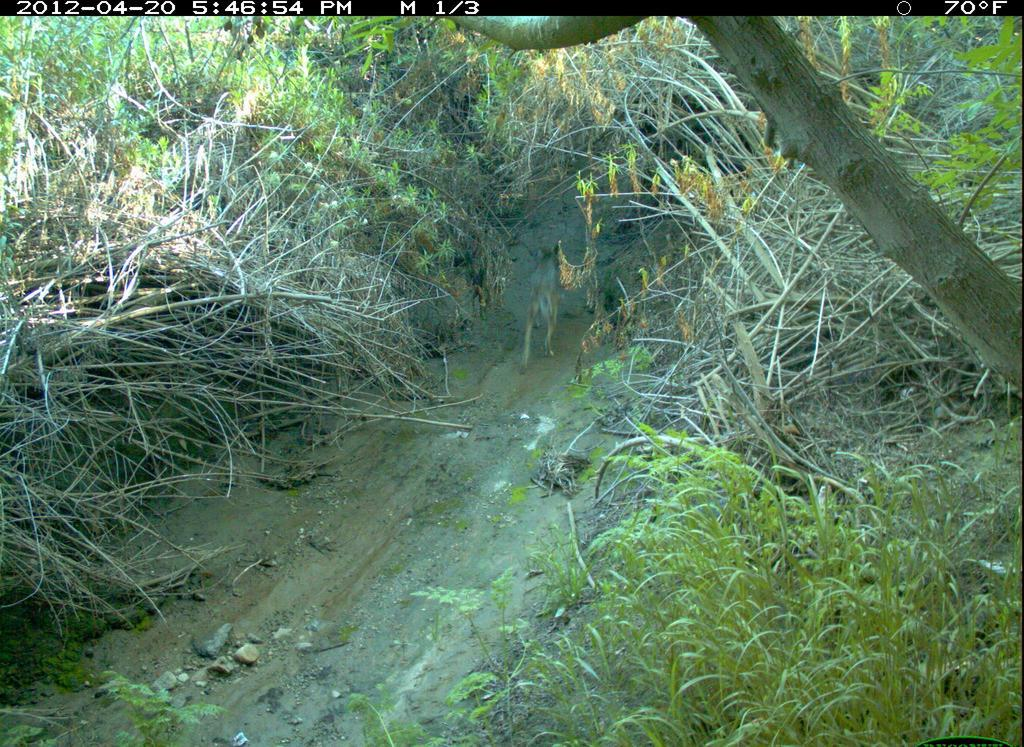coyote: (523, 244, 601, 393)
